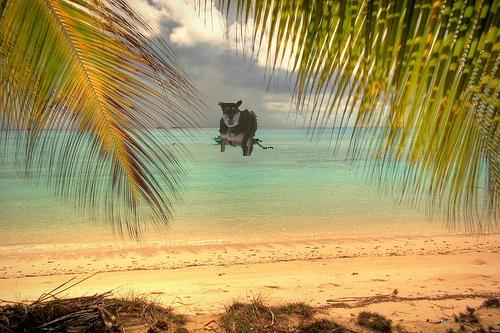tampered: (219, 101, 273, 156)
